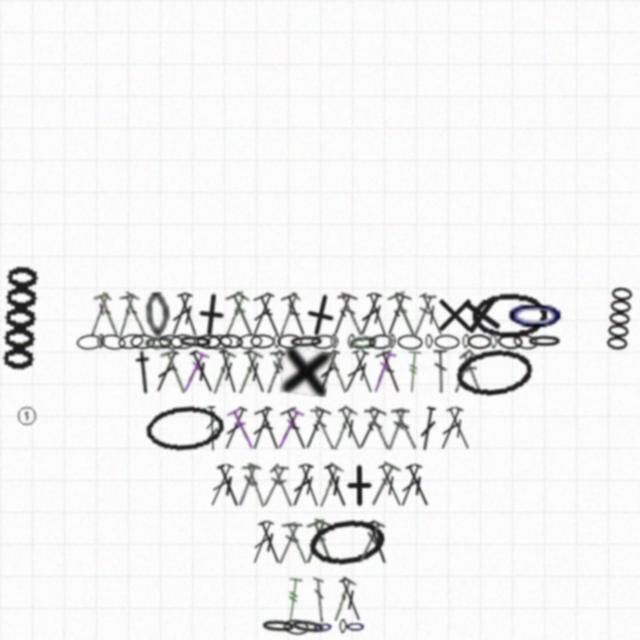chain: (453, 345, 536, 399), (306, 515, 387, 570), (144, 403, 225, 454), (471, 292, 547, 338), (504, 292, 567, 337), (144, 292, 171, 338), (289, 617, 327, 637), (260, 618, 297, 635), (177, 334, 214, 350), (288, 334, 325, 350), (526, 334, 563, 349), (117, 332, 145, 351), (348, 333, 377, 351), (99, 333, 127, 351), (512, 333, 539, 351), (283, 618, 309, 636), (236, 333, 263, 350), (144, 334, 172, 350), (218, 333, 244, 350), (368, 333, 394, 350), (497, 333, 523, 350), (76, 334, 103, 350), (158, 334, 184, 350), (206, 334, 232, 350), (397, 334, 423, 350), (434, 334, 460, 350), (311, 334, 336, 350), (170, 334, 196, 349), (130, 334, 155, 349), (196, 334, 221, 349), (250, 334, 275, 349), (277, 334, 302, 349), (467, 334, 492, 349), (312, 619, 334, 635), (345, 619, 366, 634), (330, 334, 339, 349), (347, 334, 356, 349), (489, 334, 498, 349), (339, 619, 347, 634), (97, 334, 105, 349), (273, 334, 281, 349), (388, 334, 396, 349), (425, 334, 433, 349), (462, 334, 470, 349)
double: (364, 461, 402, 510), (225, 290, 261, 339), (387, 290, 423, 339), (352, 405, 388, 453), (306, 518, 341, 567), (279, 405, 314, 453), (298, 405, 333, 453), (252, 291, 287, 339), (299, 518, 333, 567), (253, 405, 287, 453), (374, 348, 408, 396), (231, 348, 264, 396), (280, 291, 313, 339), (326, 291, 359, 339), (380, 291, 413, 339), (226, 405, 259, 452), (339, 348, 372, 395), (205, 348, 237, 396), (272, 406, 305, 452), (354, 519, 386, 566), (205, 462, 237, 509), (313, 462, 345, 509), (375, 462, 407, 509), (402, 462, 434, 509), (327, 405, 359, 452), (335, 405, 367, 452), (443, 405, 475, 452), (178, 348, 210, 395), (186, 348, 218, 395), (119, 291, 151, 338), (219, 291, 251, 338), (416, 291, 448, 338), (159, 348, 190, 396), (92, 291, 123, 339), (327, 576, 358, 623), (281, 519, 312, 566), (321, 462, 352, 509), (219, 405, 250, 452), (435, 405, 466, 452), (151, 348, 182, 395), (336, 576, 366, 623), (247, 519, 277, 566), (255, 519, 285, 566), (214, 462, 244, 509), (287, 462, 317, 509), (395, 462, 425, 509), (322, 348, 352, 395), (166, 291, 196, 338), (247, 291, 277, 338), (355, 291, 385, 338), (260, 349, 290, 395), (363, 519, 392, 566), (233, 462, 262, 509), (241, 462, 270, 509), (295, 462, 324, 509), (247, 405, 276, 452), (241, 348, 270, 395), (314, 348, 343, 395), (349, 348, 378, 395), (368, 348, 397, 395), (112, 291, 141, 338), (174, 291, 203, 338), (363, 291, 392, 338), (260, 463, 289, 508), (268, 463, 297, 508), (275, 520, 303, 566), (364, 406, 392, 452), (391, 406, 419, 452), (458, 349, 486, 395), (337, 292, 365, 338), (215, 348, 242, 395), (450, 349, 478, 394), (410, 292, 437, 338), (310, 406, 337, 451), (86, 292, 113, 337), (275, 292, 302, 337), (384, 406, 410, 452), (270, 349, 296, 395), (417, 406, 439, 452), (433, 349, 449, 394), (313, 577, 326, 622)
enseble_chain: (0, 265, 44, 375), (604, 286, 635, 353)
half_double: (130, 349, 158, 395)
noise: (15, 404, 39, 428)
single: (293, 288, 347, 342), (456, 289, 507, 340), (280, 347, 331, 397), (187, 290, 236, 339), (337, 463, 382, 508), (432, 292, 477, 337)
treble: (283, 577, 303, 623), (404, 349, 423, 395), (204, 406, 220, 451)
